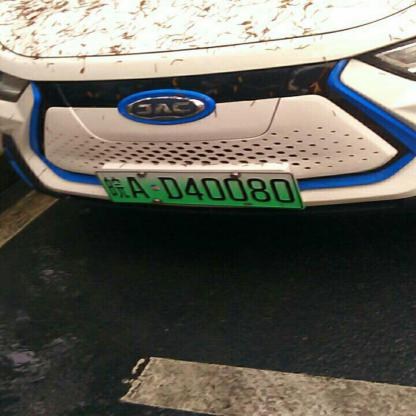lp: (94, 172, 302, 208)
